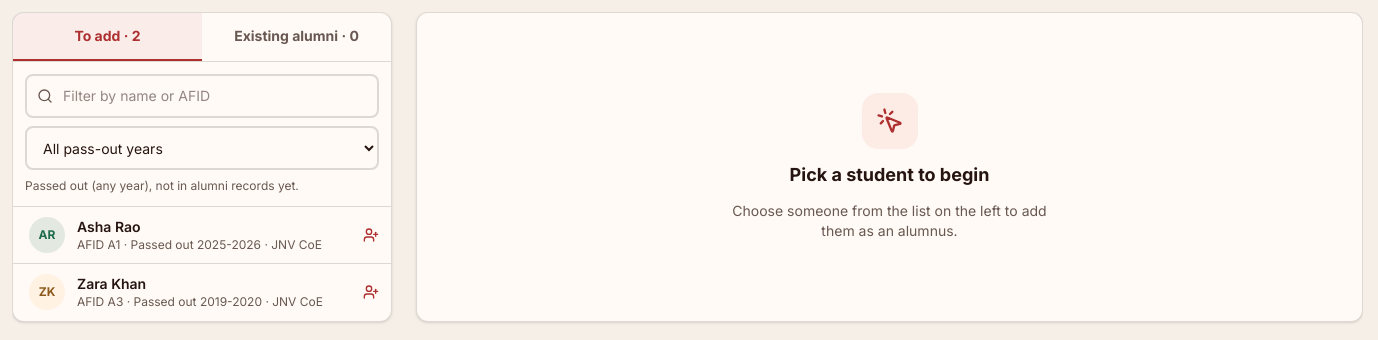
AlumniTab › filters by name or AFID, and by year when there is more than one
Expected: the text "Asha Rao" is shown, 77,218 -> 140,235
Type "a3" into the field with placeholder "Filter by name or AFID". click: (202, 96)
box: 25,74 -> 379,118
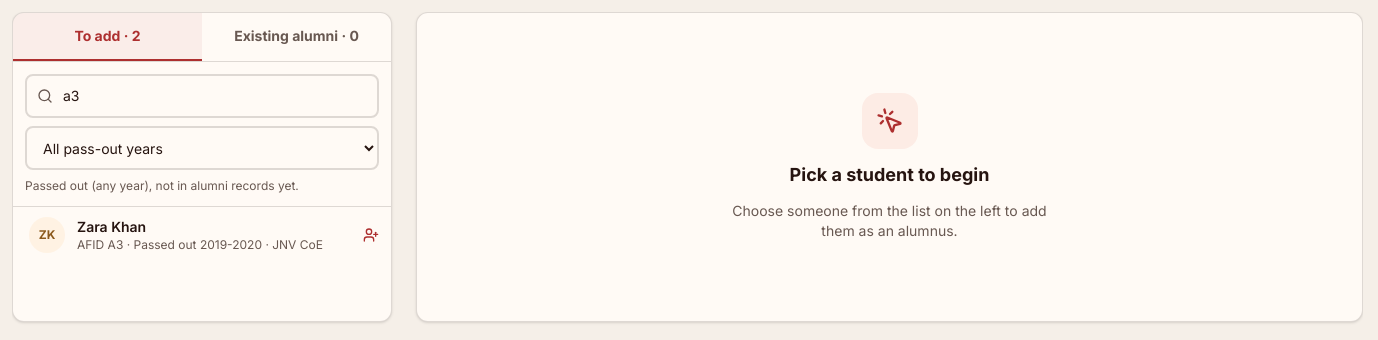
Expected: the text "Zara Khan" is shown, 77,218 -> 146,235
Result: the button "Asha Rao" is gone
Clear the field with placeholder "Filter by name or AFID". click: (202, 96)
box: 25,74 -> 379,118
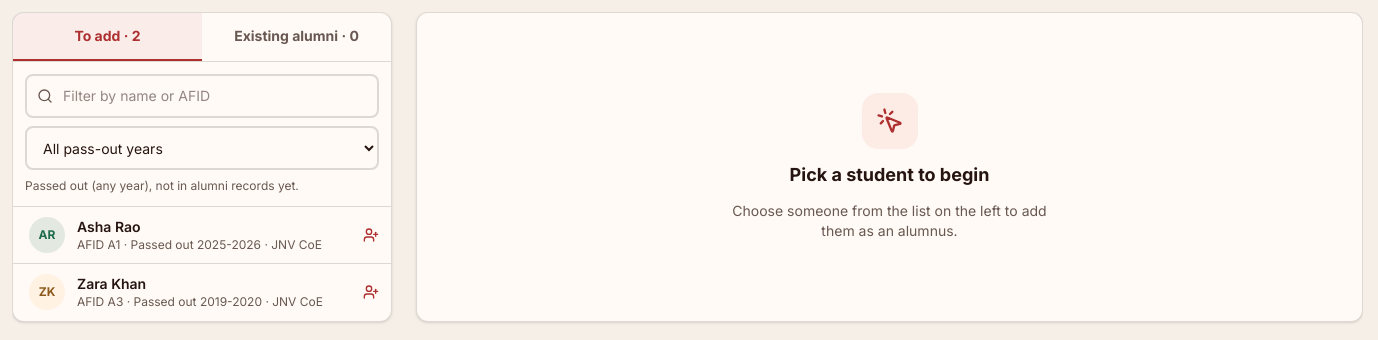
Select "2025-2026" in the dropdown named "Pass-out year". click: (202, 148)
box: 25,126 -> 379,170
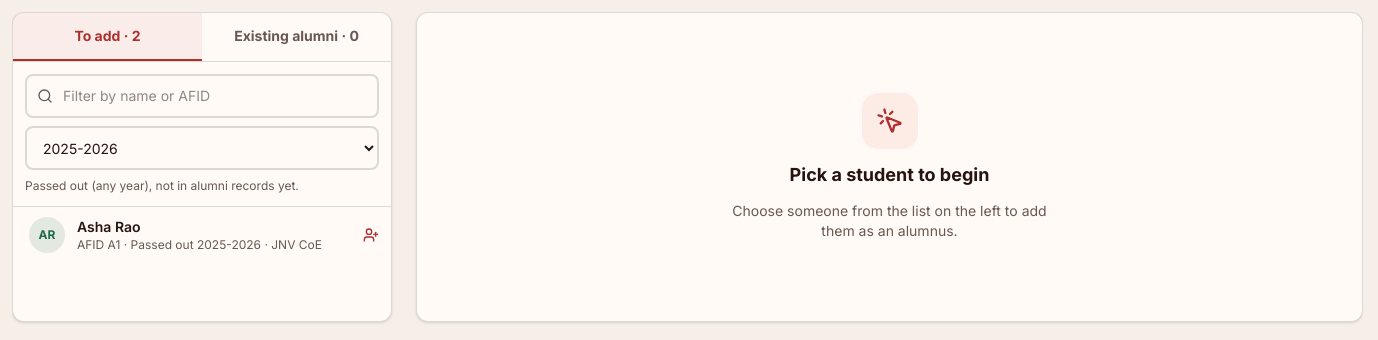
Result: the text "Asha Rao" is shown at 77,218 -> 140,235
Result: the button "Zara Khan" is gone
Type "nobody" into the field with placeholder "Filter by name or AFID". click: (202, 96)
box: 25,74 -> 379,118
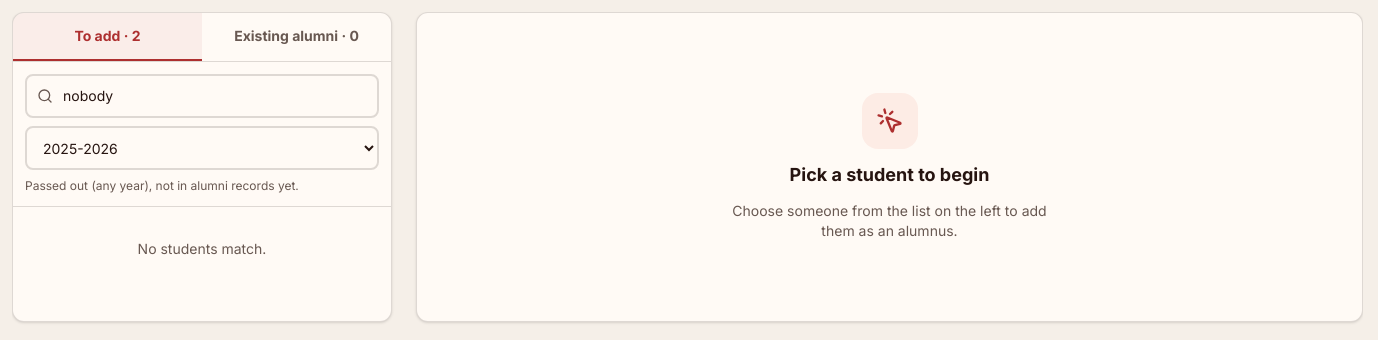
Result: the list item "No students match." is shown at 138,240 -> 266,257
